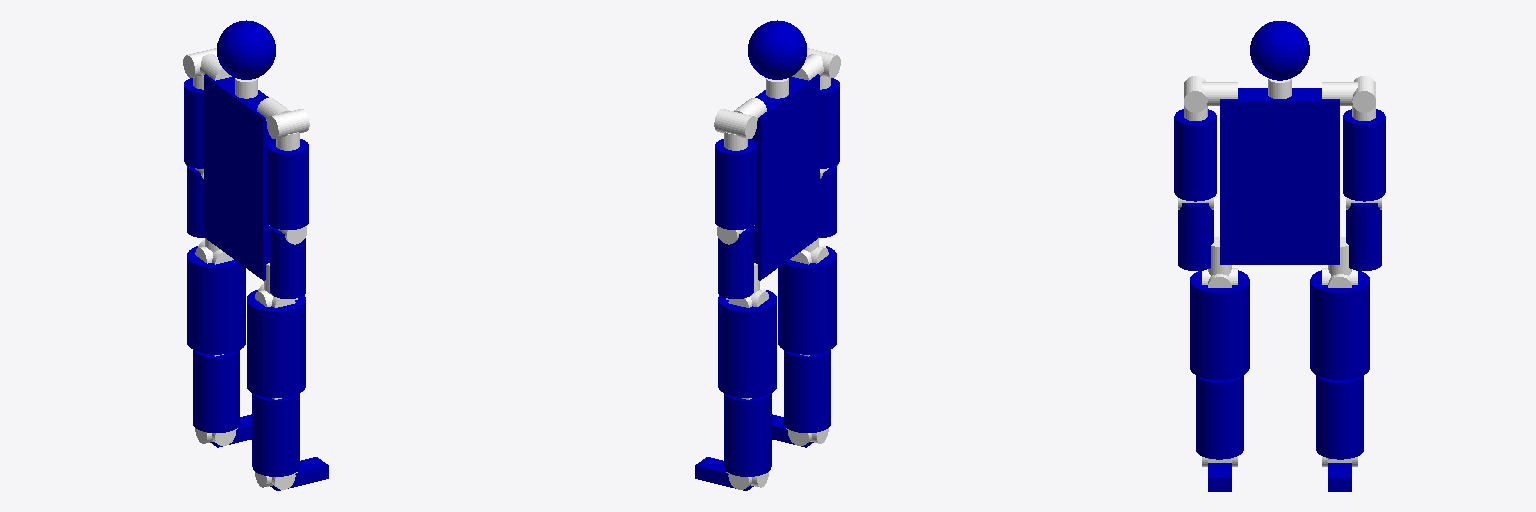
The robot description file, URDF, robot "GRobot":
<?xml version="1.0"?>
<robot name="GRobot">
    <material name="blue"><color rgba="0 0 0.8 1"/></material>
    <material name="white"><color rgba="1 1 1 1"/></material>

    <link name="base_link">
        <visual>
            <geometry><box size="0.05 0.2 0.3"/></geometry>
            <material name="blue"/>
        </visual>
    </link>

    <!--=========================== head ==========================-->

    <link name="neck_z">
        <visual>
            <geometry><cylinder length="0.06" radius="0.02"/></geometry>
            <origin xyz="0 0 0" rpy="0 0 0"/>
            <material name="white"/>
        </visual>
    </link>

    <joint name="base_to_neck_z" type="continuous">
        <parent link="base_link"/>
        <child link="neck_z"/>
        <origin xyz="0 0 0.15" rpy="0 0 0"/>
        <axis xyz="0 0 1"/>
    </joint>

    <link name="head">
        <visual>
            <geometry><sphere radius="0.05"/></geometry>
            <material name="blue"/>
        </visual>
    </link>

    <joint name="neck_to_head" type="fixed">
        <parent link="neck_z"/>
        <child link="head"/>
        <origin xyz="0 0 0.08" rpy="0 0 0"/>
        <axis xyz="0 1 0"/>
    </joint>


    <!--=========================== left arm ==========================-->

    <link name="left_shoulder_y">
        <visual>
            <geometry><cylinder length="0.06" radius="0.02"/></geometry>
            <origin xyz="0 0 0" rpy="1.57079 0 0"/>
            <material name="white"/>
        </visual>
    </link>

    <joint name="base_to_left_shoulder_y" type="continuous">
        <parent link="base_link"/>
        <child link="left_shoulder_y"/>
        <origin xyz="0 0.1 0.15" rpy="0 0 0"/>
        <axis xyz="0 1 0"/>
    </joint>

    <link name="left_shoulder_x">
        <visual>
            <geometry><cylinder length="0.06" radius="0.02"/></geometry>
            <origin xyz="0 0 0" rpy="0 1.57079 0"/>
            <material name="white"/>
        </visual>
    </link>

    <joint name="left_shoulder_y_to_left_shoulder_x" type="continuous">
        <parent link="left_shoulder_y"/>
        <child link="left_shoulder_x"/>
        <origin xyz="0 0.04 0" rpy="0 0 0"/>
        <axis xyz="1 0 0"/>
    </joint>

    <link name="left_shoulder_z">
        <visual>
            <geometry><cylinder length="0.06" radius="0.02"/></geometry>
            <origin xyz="0 0 0" rpy="0 0 0"/>
            <material name="white"/>
        </visual>
    </link>

    <joint name="left_shoulder_x_to_left_shoulder_z" type="continuous">
        <parent link="left_shoulder_x"/>
        <child link="left_shoulder_z"/>
        <origin xyz="0 0 -0.04" rpy="0 0 0"/>
        <axis xyz="0 0 1"/>
    </joint>

    <link name="left_upper_arm">
        <visual>
            <geometry><cylinder length="0.14" radius="0.035"/></geometry>
            <origin xyz="0 0 0" rpy="0 0 0"/>
            <material name="blue"/>
        </visual>
    </link>

    <joint name="left_shoulder_to_left_upper_arm" type="fixed">
        <parent link="left_shoulder_z"/>
        <child link="left_upper_arm"/>
        <origin xyz="0 0 -0.07" rpy="0 0 0"/>
    </joint>

    <link name="left_elbow_y">
        <visual>
            <geometry><cylinder length="0.06" radius="0.02"/></geometry>
            <origin xyz="0 0 0" rpy="1.57079 0 0"/>
            <material name="white"/>
        </visual>
    </link>

    <joint name="left_upper_arm_to_left_elbow_y" type="continuous">
        <parent link="left_upper_arm"/>
        <child link="left_elbow_y"/>
        <origin xyz="0 0 -0.08" rpy="0 0 0"/>
        <axis xyz="0 1 0"/>
    </joint>

    <link name="left_elbow_z">
        <visual>
            <geometry><cylinder length="0.06" radius="0.02"/></geometry>
            <origin xyz="0 0 0" rpy="0 0 0"/>
            <material name="white"/>
        </visual>
    </link>

    <joint name="left_elbow_y_to_left_elbow_z" type="continuous">
        <parent link="left_elbow_y"/>
        <child link="left_elbow_z"/>
        <origin xyz="0 0 0" rpy="0 0 0"/>
        <axis xyz="0 0 1"/>
    </joint>

    <link name="left_fore_arm">
        <visual>
            <geometry><cylinder length="0.12" radius="0.03"/></geometry>
            <origin xyz="0 0 0" rpy="0 0 0"/>
            <material name="blue"/>
        </visual>
    </link>

    <joint name="left_elbow_to_left_fore_arm" type="fixed">
        <parent link="left_elbow_z"/>
        <child link="left_fore_arm"/>
        <origin xyz="0 0 -0.06" rpy="0 0 0"/>
    </joint>

    <!--=========================== right arm ==========================-->

    <link name="right_shoulder_y">
        <visual>
            <geometry><cylinder length="0.06" radius="0.02"/></geometry>
            <origin xyz="0 0 0" rpy="1.57079 0 0"/>
            <material name="white"/>
        </visual>
    </link>

    <joint name="base_to_right_shoulder_y" type="continuous">
        <parent link="base_link"/>
        <child link="right_shoulder_y"/>
        <origin xyz="0 -0.1 0.15" rpy="0 0 0"/>
        <axis xyz="0 1 0"/>
    </joint>

    <link name="right_shoulder_x">
        <visual>
            <geometry><cylinder length="0.06" radius="0.02"/></geometry>
            <origin xyz="0 0 0" rpy="0 1.57079 0"/>
            <material name="white"/>
        </visual>
    </link>

    <joint name="right_shoulder_y_to_right_shoulder_x" type="continuous">
        <parent link="right_shoulder_y"/>
        <child link="right_shoulder_x"/>
        <origin xyz="0 -0.04 0" rpy="0 0 0"/>
        <axis xyz="1 0 0"/>
    </joint>

    <link name="right_shoulder_z">
        <visual>
            <geometry><cylinder length="0.06" radius="0.02"/></geometry>
            <origin xyz="0 0 0" rpy="0 0 0"/>
            <material name="white"/>
        </visual>
    </link>

    <joint name="right_shoulder_x_to_right_shoulder_z" type="continuous">
        <parent link="right_shoulder_x"/>
        <child link="right_shoulder_z"/>
        <origin xyz="0 0 -0.04" rpy="0 0 0"/>
        <axis xyz="0 0 1"/>
    </joint>

    <link name="right_upper_arm">
        <visual>
            <geometry><cylinder length="0.14" radius="0.035"/></geometry>
            <origin xyz="0 0 0" rpy="0 0 0"/>
            <material name="blue"/>
        </visual>
    </link>

    <joint name="right_shoulder_to_right_upper_arm" type="fixed">
        <parent link="right_shoulder_z"/>
        <child link="right_upper_arm"/>
        <origin xyz="0 0 -0.07" rpy="0 0 0"/>
    </joint>

    <link name="right_elbow_y">
        <visual>
            <geometry><cylinder length="0.06" radius="0.02"/></geometry>
            <origin xyz="0 0 0" rpy="1.57079 0 0"/>
            <material name="white"/>
        </visual>
    </link>

    <joint name="right_upper_arm_to_right_elbow_y" type="continuous">
        <parent link="right_upper_arm"/>
        <child link="right_elbow_y"/>
        <origin xyz="0 0 -0.08" rpy="0 0 0"/>
        <axis xyz="0 1 0"/>
    </joint>

    <link name="right_elbow_z">
        <visual>
            <geometry><cylinder length="0.06" radius="0.02"/></geometry>
            <origin xyz="0 0 0" rpy="0 0 0"/>
            <material name="white"/>
        </visual>
    </link>

    <joint name="right_elbow_y_to_right_elbow_z" type="continuous">
        <parent link="right_elbow_y"/>
        <child link="right_elbow_z"/>
        <origin xyz="0 0 0" rpy="0 0 0"/>
        <axis xyz="0 0 1"/>
    </joint>

    <link name="right_fore_arm">
        <visual>
            <geometry><cylinder length="0.12" radius="0.03"/></geometry>
            <origin xyz="0 0 0" rpy="0 0 0"/>
            <material name="blue"/>
        </visual>
    </link>

    <joint name="right_elbow_to_right_fore_arm" type="fixed">
        <parent link="right_elbow_z"/>
        <child link="right_fore_arm"/>
        <origin xyz="0 0 -0.06" rpy="0 0 0"/>
    </joint>

    <!--=========================== left leg ==========================-->

    <link name="left_hip_z">
        <visual>
            <geometry><cylinder length="0.06" radius="0.02"/></geometry>
            <origin xyz="0 0 0" rpy="0 0 0"/>
            <material name="white"/>
        </visual>
    </link>

    <joint name="base_to_left_hip_z" type="continuous">
        <parent link="base_link"/>
        <child link="left_hip_z"/>
        <origin xyz="0 0.1 -0.15" rpy="0 0 0"/>
        <axis xyz="0 0 1"/>
    </joint>

    <link name="left_hip_y">
        <visual>
            <geometry><cylinder length="0.06" radius="0.02"/></geometry>
            <origin xyz="0 0 0" rpy="1.57079 0 0"/>
            <material name="white"/>
        </visual>
    </link>

    <joint name="left_hip_z_to_left_hip_y" type="continuous">
        <parent link="left_hip_z"/>
        <child link="left_hip_y"/>
        <origin xyz="0 0 -0.04" rpy="0 0 0"/>
        <axis xyz="0 1 0"/>
    </joint>

    <link name="left_hip_x">
        <visual>
            <geometry><cylinder length="0.06" radius="0.02"/></geometry>
            <origin xyz="0 0 0" rpy="0 1.57079 0"/>
            <material name="white"/>
        </visual>
    </link>

    <joint name="left_hip_y_to_left_hip_x" type="continuous">
        <parent link="left_hip_y"/>
        <child link="left_hip_x"/>
        <origin xyz="0 0 0" rpy="0 0 0"/>
        <axis xyz="1 0 0"/>
    </joint>

    <link name="left_thigh">
        <visual>
            <geometry><cylinder length="0.16" radius="0.05"/></geometry>
            <origin xyz="0 0 0" rpy="0 0 0"/>
            <material name="blue"/>
        </visual>
    </link>

    <joint name="left_hip_to_left_thigh" type="fixed">
        <parent link="left_hip_x"/>
        <child link="left_thigh"/>
        <origin xyz="0 0 -0.08" rpy="0 0 0"/>
    </joint>

    <link name="left_knee_y">
        <visual>
            <geometry><cylinder length="0.06" radius="0.02"/></geometry>
            <origin xyz="0 0 0" rpy="1.57079 0 0"/>
            <material name="white"/>
        </visual>
    </link>

    <joint name="left_thigh_to_left_knee_y" type="continuous">
        <parent link="left_thigh"/>
        <child link="left_knee_y"/>
        <origin xyz="0 0 -0.09" rpy="0 0 0"/>
        <axis xyz="0 1 0"/>
    </joint>

    <link name="left_shank">
        <visual>
            <geometry><cylinder length="0.14" radius="0.04"/></geometry>
            <origin xyz="0 0 0" rpy="0 0 0"/>
            <material name="blue"/>
        </visual>
    </link>

    <joint name="left_knee_to_left_shank" type="fixed">
        <parent link="left_knee_y"/>
        <child link="left_shank"/>
        <origin xyz="0 0 -0.07" rpy="0 0 0"/>
    </joint>

    <link name="left_ankle_y">
        <visual>
            <geometry><cylinder length="0.06" radius="0.02"/></geometry>
            <origin xyz="0 0 0" rpy="1.57079 0 0"/>
            <material name="white"/>
        </visual>
    </link>

    <joint name="left_shank_to_left_ankle_y" type="continuous">
        <parent link="left_shank"/>
        <child link="left_ankle_y"/>
        <origin xyz="0 0 -0.08" rpy="0 0 0"/>
        <axis xyz="0 1 0"/>
    </joint>

    <link name="left_ankle_x">
        <visual>
            <geometry><cylinder length="0.06" radius="0.02"/></geometry>
            <origin xyz="0 0 0" rpy="0 1.57079 0"/>
            <material name="white"/>
        </visual>
    </link>

    <joint name="left_ankle_y_to_left_ankle_x" type="continuous">
        <parent link="left_ankle_y"/>
        <child link="left_ankle_x"/>
        <origin xyz="0 0 0" rpy="0 0 0"/>
        <axis xyz="1 0 0"/>
    </joint>

    <link name="left_foot">
        <visual>
            <geometry><box size="0.1 0.04 0.025"/></geometry>
            <origin xyz="0.04 0 0" rpy="0 0 0"/>
            <material name="blue"/>
        </visual>
    </link>

    <joint name="left_ankle_to_left_foot" type="fixed">
        <parent link="left_ankle_x"/>
        <child link="left_foot"/>
        <origin xyz="0 0 -0.0125" rpy="0 0 0"/>
    </joint>


    <!--=========================== right leg ==========================-->

    <link name="right_hip_z">
        <visual>
            <geometry><cylinder length="0.06" radius="0.02"/></geometry>
            <origin xyz="0 0 0" rpy="0 0 0"/>
            <material name="white"/>
        </visual>
    </link>

    <joint name="base_to_right_hip_z" type="continuous">
        <parent link="base_link"/>
        <child link="right_hip_z"/>
        <origin xyz="0 -0.1 -0.15" rpy="0 0 0"/>
        <axis xyz="0 0 1"/>
    </joint>

    <link name="right_hip_y">
        <visual>
            <geometry><cylinder length="0.06" radius="0.02"/></geometry>
            <origin xyz="0 0 0" rpy="1.57079 0 0"/>
            <material name="white"/>
        </visual>
    </link>

    <joint name="right_hip_z_to_right_hip_y" type="continuous">
        <parent link="right_hip_z"/>
        <child link="right_hip_y"/>
        <origin xyz="0 0 -0.04" rpy="0 0 0"/>
        <axis xyz="0 1 0"/>
    </joint>

    <link name="right_hip_x">
        <visual>
            <geometry><cylinder length="0.06" radius="0.02"/></geometry>
            <origin xyz="0 0 0" rpy="0 1.57079 0"/>
            <material name="white"/>
        </visual>
    </link>

    <joint name="right_hip_y_to_right_hip_x" type="continuous">
        <parent link="right_hip_y"/>
        <child link="right_hip_x"/>
        <origin xyz="0 0 0" rpy="0 0 0"/>
        <axis xyz="1 0 0"/>
    </joint>

    <link name="right_thigh">
        <visual>
            <geometry><cylinder length="0.16" radius="0.05"/></geometry>
            <origin xyz="0 0 0" rpy="0 0 0"/>
            <material name="blue"/>
        </visual>
    </link>

    <joint name="right_hip_to_right_thigh" type="fixed">
        <parent link="right_hip_x"/>
        <child link="right_thigh"/>
        <origin xyz="0 0 -0.08" rpy="0 0 0"/>
    </joint>

    <link name="right_knee_y">
        <visual>
            <geometry><cylinder length="0.06" radius="0.02"/></geometry>
            <origin xyz="0 0 0" rpy="1.57079 0 0"/>
            <material name="white"/>
        </visual>
    </link>

    <joint name="right_thigh_to_right_knee_y" type="continuous">
        <parent link="right_thigh"/>
        <child link="right_knee_y"/>
        <origin xyz="0 0 -0.09" rpy="0 0 0"/>
        <axis xyz="0 1 0"/>
    </joint>

    <link name="right_shank">
        <visual>
            <geometry><cylinder length="0.14" radius="0.04"/></geometry>
            <origin xyz="0 0 0" rpy="0 0 0"/>
            <material name="blue"/>
        </visual>
    </link>

    <joint name="right_knee_to_right_shank" type="fixed">
        <parent link="right_knee_y"/>
        <child link="right_shank"/>
        <origin xyz="0 0 -0.07" rpy="0 0 0"/>
    </joint>

    <link name="right_ankle_y">
        <visual>
            <geometry><cylinder length="0.06" radius="0.02"/></geometry>
            <origin xyz="0 0 0" rpy="1.57079 0 0"/>
            <material name="white"/>
        </visual>
    </link>

    <joint name="right_shank_to_right_ankle_y" type="continuous">
        <parent link="right_shank"/>
        <child link="right_ankle_y"/>
        <origin xyz="0 0 -0.08" rpy="0 0 0"/>
        <axis xyz="0 1 0"/>
    </joint>

    <link name="right_ankle_x">
        <visual>
            <geometry><cylinder length="0.06" radius="0.02"/></geometry>
            <origin xyz="0 0 0" rpy="0 1.57079 0"/>
            <material name="white"/>
        </visual>
    </link>

    <joint name="right_ankle_y_to_right_ankle_x" type="continuous">
        <parent link="right_ankle_y"/>
        <child link="right_ankle_x"/>
        <origin xyz="0 0 0" rpy="0 0 0"/>
        <axis xyz="1 0 0"/>
    </joint>

    <link name="right_foot">
        <visual>
            <geometry><box size="0.1 0.04 0.025"/></geometry>
            <origin xyz="0.04 0 0" rpy="0 0 0"/>
            <material name="blue"/>
        </visual>
    </link>

    <joint name="right_ankle_to_right_foot" type="fixed">
        <parent link="right_ankle_x"/>
        <child link="right_foot"/>
        <origin xyz="0 0 -0.0125" rpy="0 0 0"/>
    </joint>



</robot>

--- Facts derived from the render (not from the file) ---
3 views of the same robot in one strip: view 1: azimuth 30°, elevation 25°; view 2: azimuth 150°, elevation 25°; view 3: azimuth 270°, elevation 25° (orthographic).
Model GRobot with 35 links and 34 joints (23 continuous, 11 fixed), rooted at base_link, posed every joint at zero.
Links seen in each view (by area): view 1: base_link, right_thigh, left_thigh, right_shank, left_shank, right_upper_arm, head, right_fore_arm, left_upper_arm, left_fore_arm, right_shoulder_x, right_foot; view 2: base_link, left_thigh, right_thigh, left_shank, right_shank, left_upper_arm, head, left_fore_arm, right_upper_arm, right_fore_arm, left_shoulder_x, left_foot; view 3: base_link, left_thigh, right_thigh, left_shank, right_shank, left_upper_arm, right_upper_arm, head, left_fore_arm, right_fore_arm, left_shoulder_x, right_shoulder_x (+4 smaller).
Boxes of the visible links, box(x1,y1,x2,y2) form: base_link: box(204, 74, 273, 280); right_thigh: box(247, 290, 305, 397); left_thigh: box(187, 246, 245, 354); right_shank: box(252, 393, 299, 476); left_shank: box(193, 350, 239, 432); right_upper_arm: box(267, 139, 308, 229); head: box(217, 20, 275, 79); right_fore_arm: box(270, 226, 305, 298); left_upper_arm: box(184, 78, 203, 168); left_fore_arm: box(187, 165, 203, 237); right_shoulder_x: box(267, 109, 309, 138); right_foot: box(270, 457, 328, 490); base_link: box(750, 74, 819, 280); left_thigh: box(718, 290, 776, 397); right_thigh: box(778, 246, 836, 354); left_shank: box(724, 393, 771, 476); right_shank: box(784, 350, 830, 432); left_upper_arm: box(715, 139, 756, 229); head: box(748, 20, 806, 79); left_fore_arm: box(718, 226, 753, 298); right_upper_arm: box(820, 78, 839, 168); right_fore_arm: box(820, 165, 836, 237); left_shoulder_x: box(714, 109, 756, 138); left_foot: box(695, 457, 753, 490); base_link: box(1220, 88, 1339, 264); left_thigh: box(1310, 270, 1369, 379); right_thigh: box(1190, 270, 1249, 379); left_shank: box(1316, 375, 1363, 459); right_shank: box(1196, 375, 1243, 459); left_upper_arm: box(1343, 109, 1385, 201); right_upper_arm: box(1174, 109, 1216, 201); head: box(1250, 21, 1309, 80); left_fore_arm: box(1346, 203, 1381, 270); right_fore_arm: box(1178, 203, 1213, 270); left_shoulder_x: box(1352, 76, 1375, 112); right_shoulder_x: box(1184, 76, 1207, 112).
Bounding box of the posed robot: 0.14 × 0.35 × 0.815 m (x, y, z).
Geometry: primitives only (box / cylinder / sphere), no mesh files.